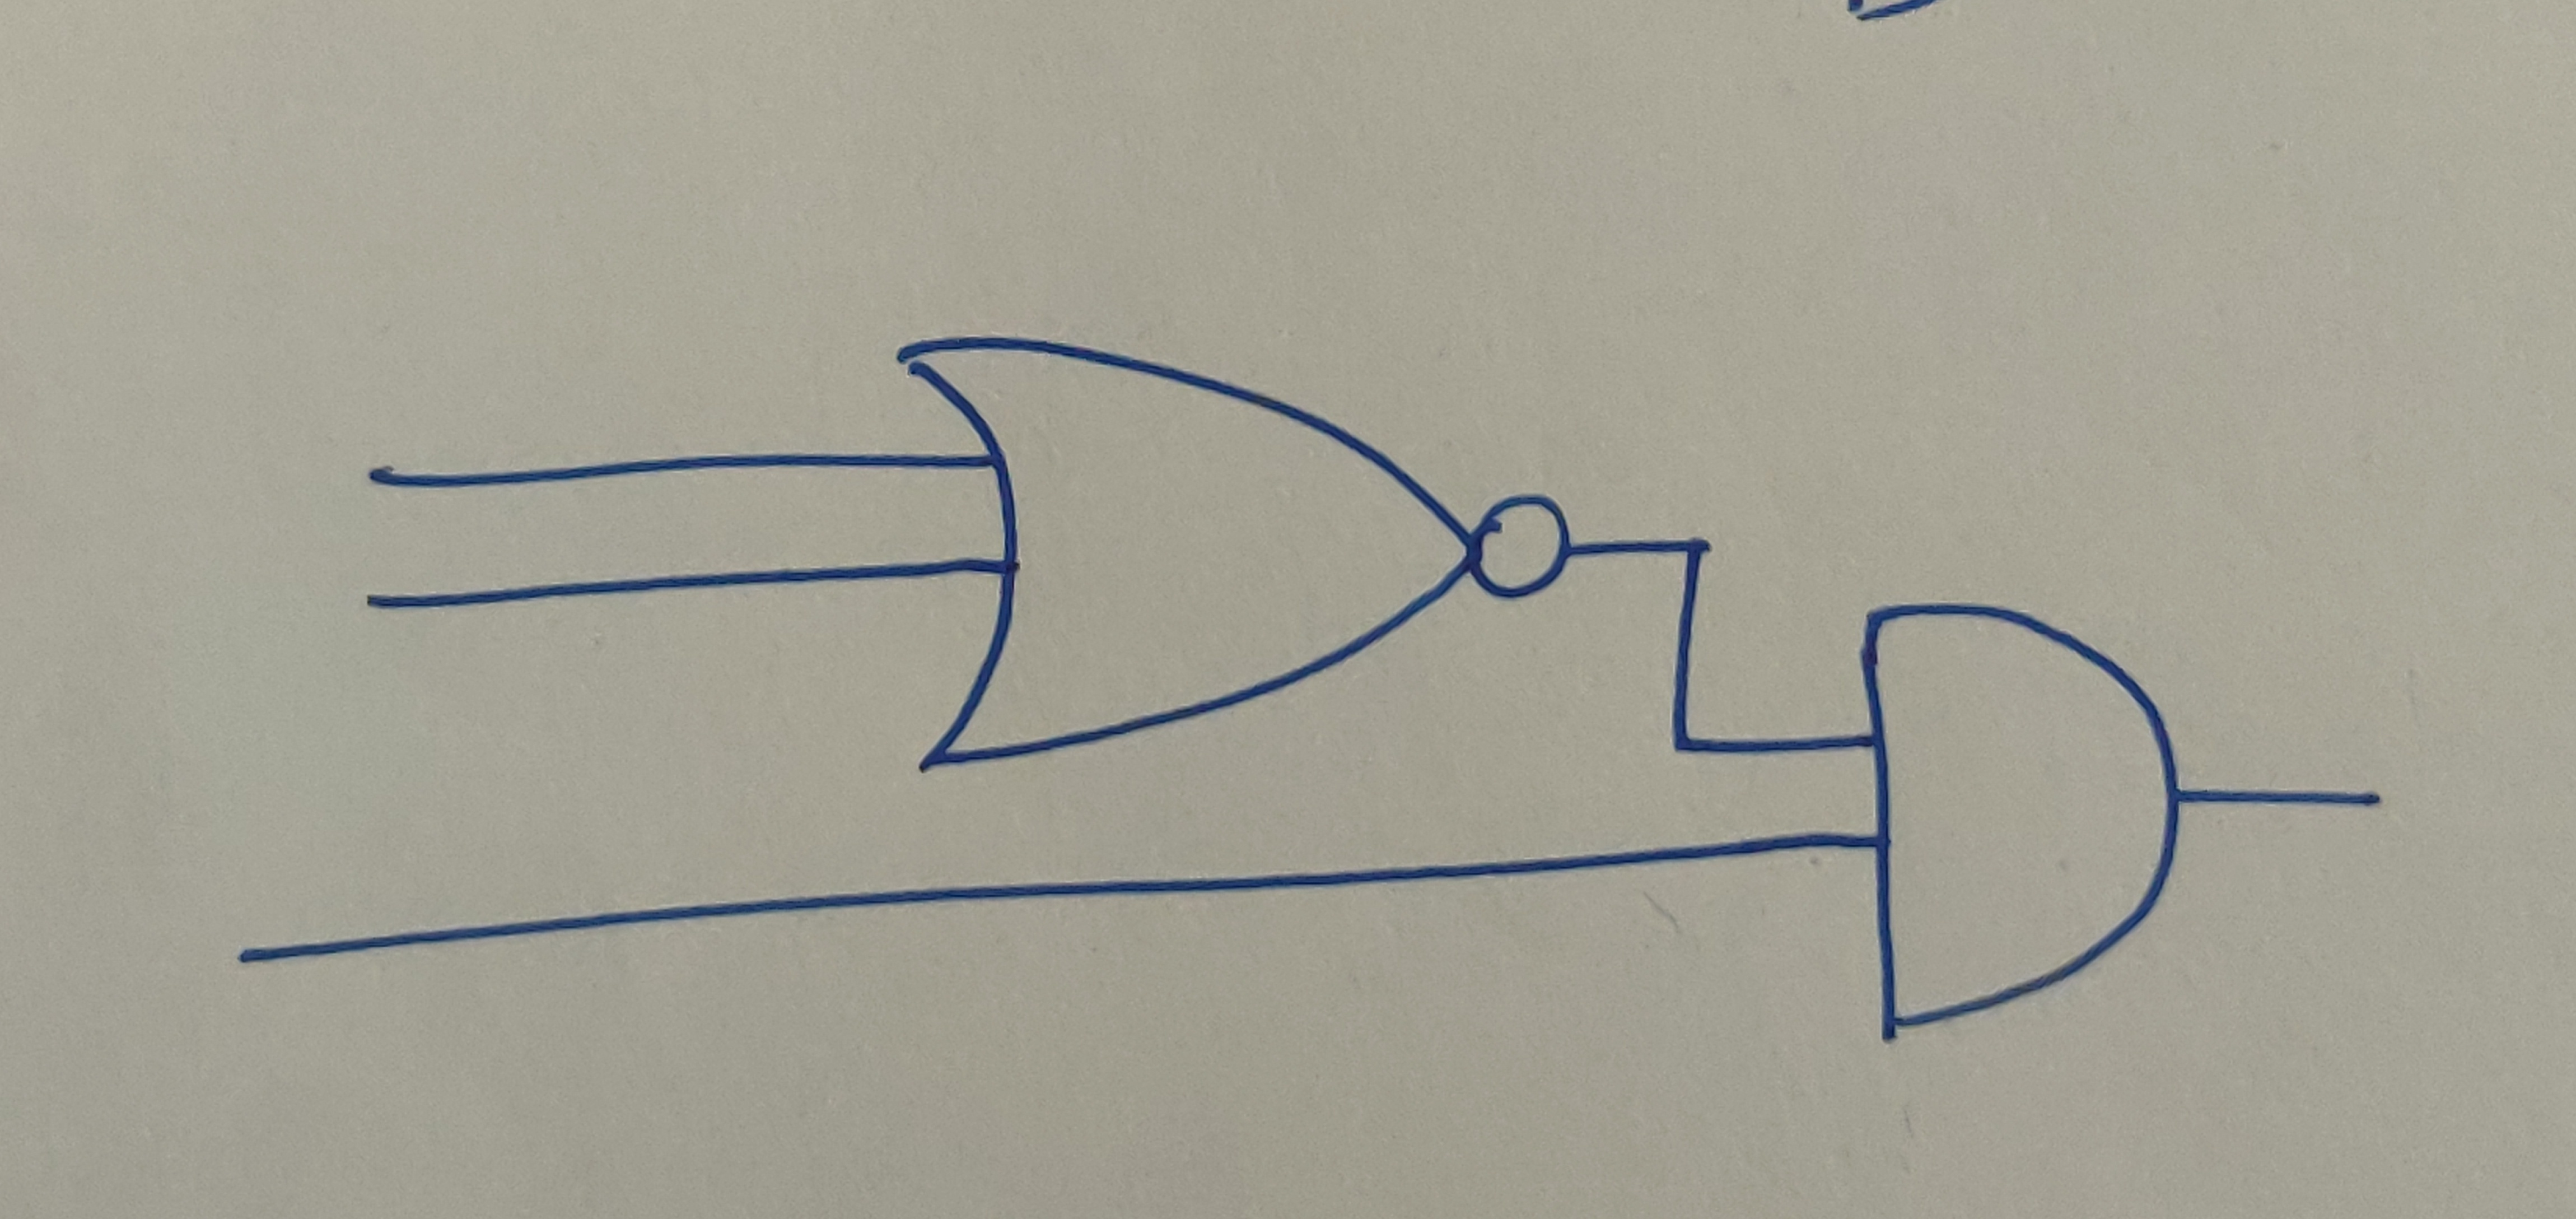and: (1858, 603, 2183, 1055)
not: (1465, 491, 1574, 603)
or: (886, 330, 1475, 780)
